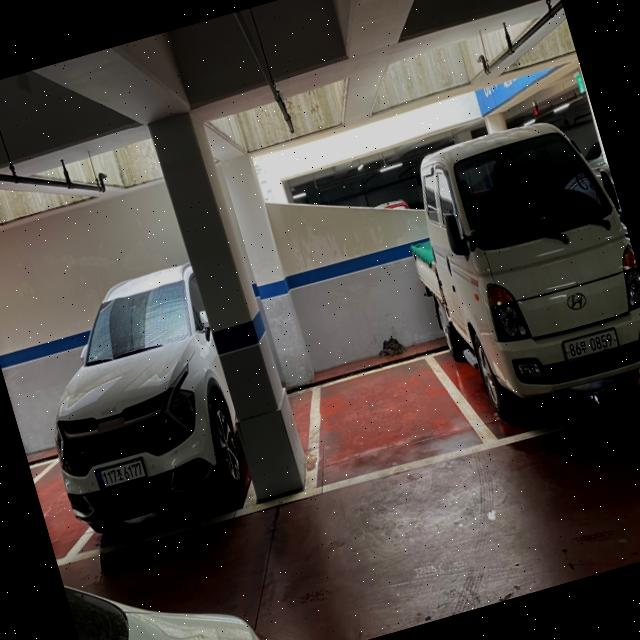empty: (303, 352, 504, 501)
occupied: (411, 102, 640, 421), (11, 254, 253, 536)
